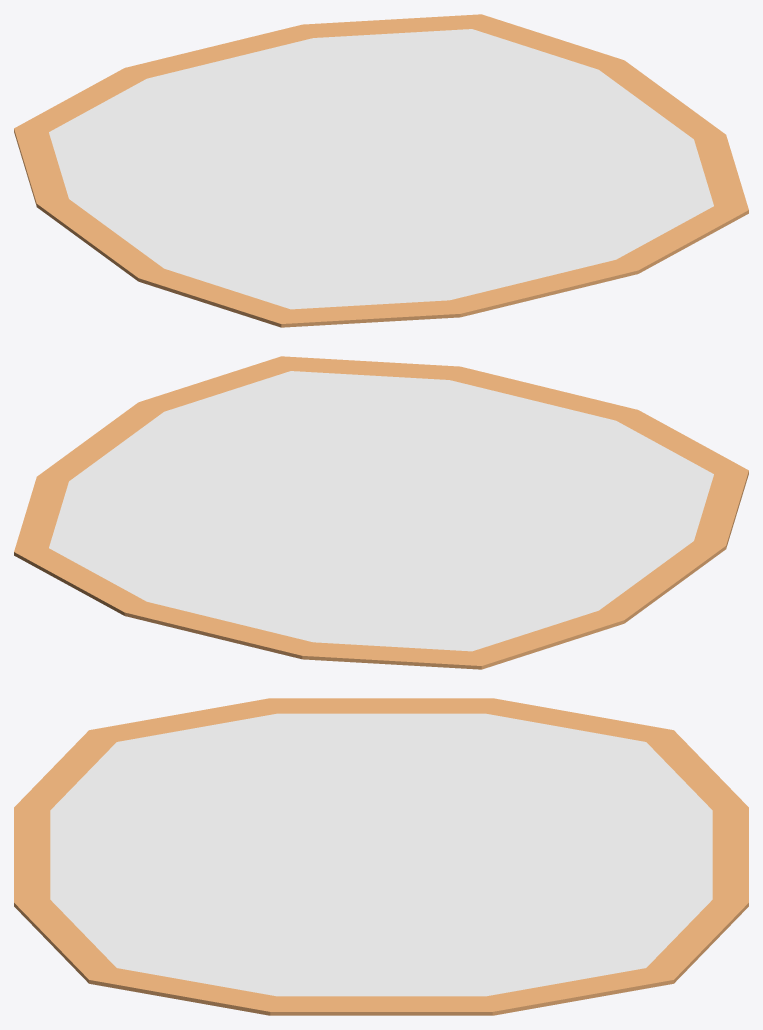
The model's file is Carpet_17.fbx.
3 renders of one model, top to bottom at view 1: azimuth 30°, elevation 25°; view 2: azimuth 150°, elevation 25°; view 3: azimuth 270°, elevation 25°, orthographic. The views are drawn at different scales.
Visible parts, largest first — view 1: Carpet_17; view 2: Carpet_17; view 3: Carpet_17.
Part boxes in pixels (x1,y1,x2,y2): Carpet_17: (14,14,748,327); Carpet_17: (14,356,748,669); Carpet_17: (14,698,748,1015).
Size of the model in its own units: 1.12 by 0.0065 by 1.11.
